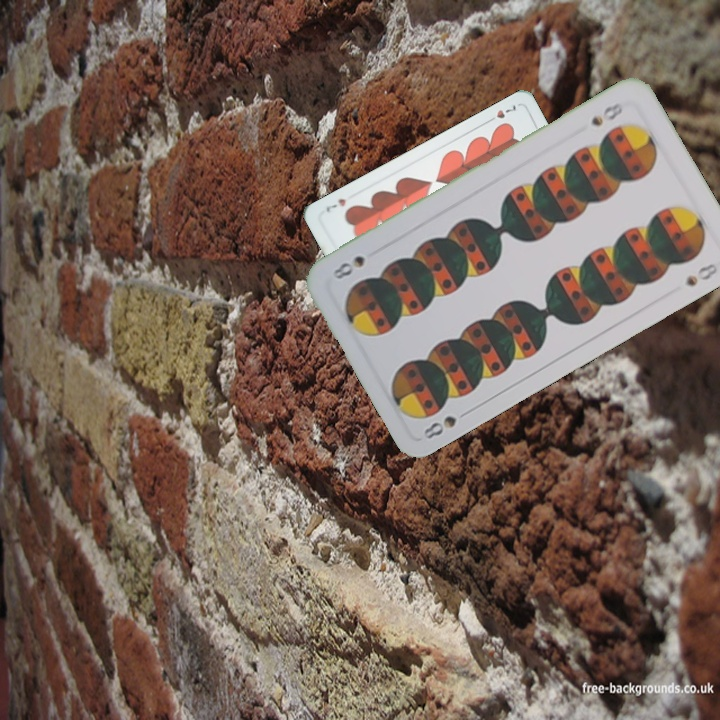H7: (483, 100, 521, 125)
S8: (419, 405, 474, 442), (587, 98, 626, 129)
